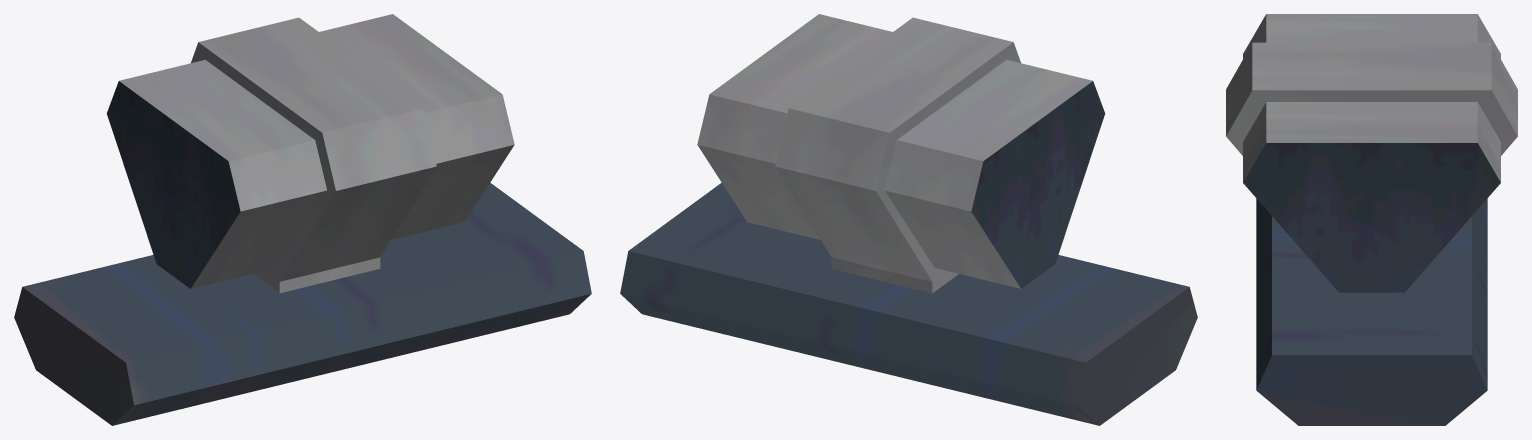
Rendered from gunScope.fbx.
The picture shows the model from 3 angles, left to right: view 1: azimuth 30°, elevation 25°; view 2: azimuth 150°, elevation 25°; view 3: azimuth 270°, elevation 25°; orthographic projection. The views are drawn at different scales.
Parts seen in each view (by area): view 1: gun_scope; view 2: gun_scope; view 3: gun_scope.
Part boxes in pixels (x1=…): gun_scope: x1=14, y1=14, x2=591, y2=425; gun_scope: x1=620, y1=14, x2=1197, y2=425; gun_scope: x1=1226, y1=14, x2=1517, y2=425.
Size of the model in its own units: 0.6172 by 0.3416 by 0.3535.
